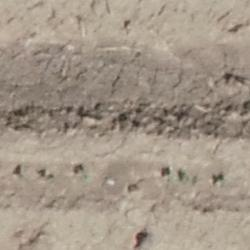cotton: (167, 167, 173, 175), (217, 176, 225, 182), (180, 170, 185, 178), (85, 174, 90, 177)
